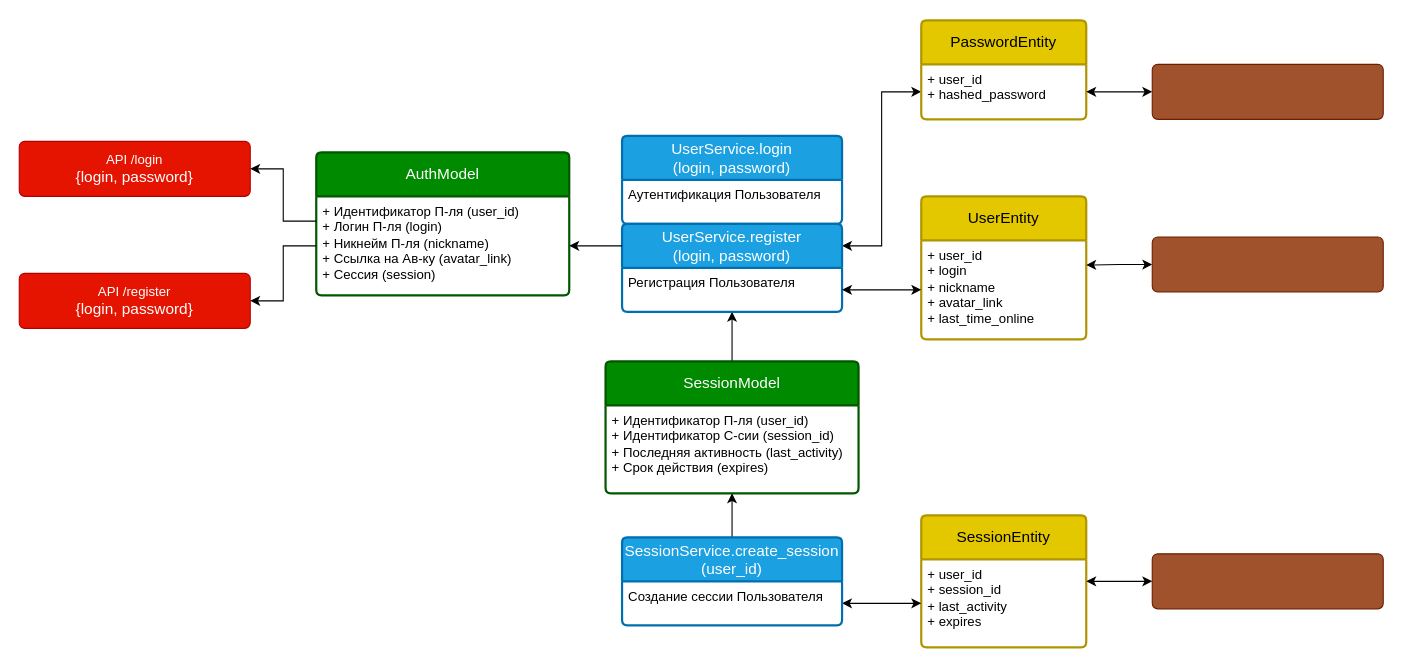
Some shapes in this 1403 by 667 pixel diagram are drawn without their labels. Each missing label, with the centre of its shape:
"PasswordRepository" belongs at (1267,91).
"SessionRepository" belongs at (1267,581).
"UserRepository" belongs at (1267,264).
